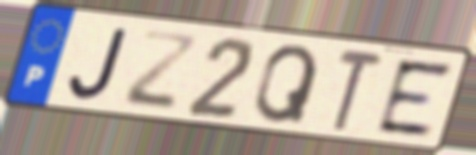2: (185, 34, 259, 122)
E: (374, 57, 456, 138)
J: (67, 25, 132, 103)
Q: (251, 42, 323, 126)
T: (332, 46, 388, 135)
Z: (119, 27, 201, 114)
